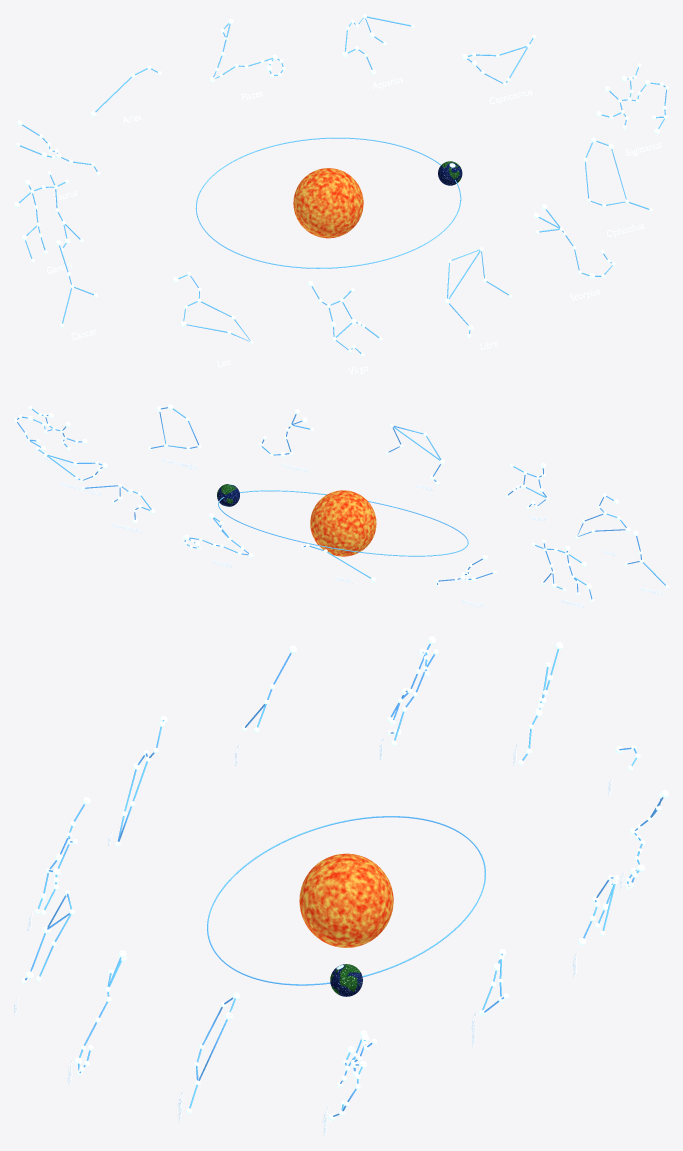
The picture shows the model from 3 angles, top to bottom: view 1: azimuth 30°, elevation 25°; view 2: azimuth 150°, elevation 25°; view 3: azimuth 270°, elevation 25°; orthographic projection. The views are drawn at different scales.
Parts seen in each view (by area): view 1: Sun, Earth orbit path; view 2: Sun, Earth orbit path, Earth; view 3: Sun, Earth orbit path, Earth.
Boxes of the visible parts, <box> form: Sun: <box>293,168,363,238</box>; Earth orbit path: <box>195,137,461,268</box>; Sun: <box>310,490,376,556</box>; Earth orbit path: <box>218,490,468,556</box>; Earth: <box>217,484,239,506</box>; Sun: <box>299,853,393,947</box>; Earth orbit path: <box>207,816,485,985</box>; Earth: <box>330,964,362,996</box>.
Bounding box in the file's own units: 0.2 × 0.0458 × 0.1299.
6 materials, 2 textured.
